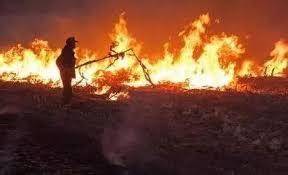fire: (22, 10, 276, 100)
